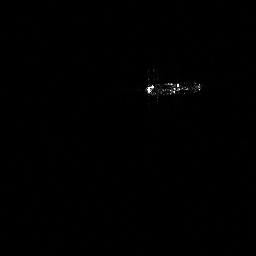ship: (147, 81, 201, 96)
